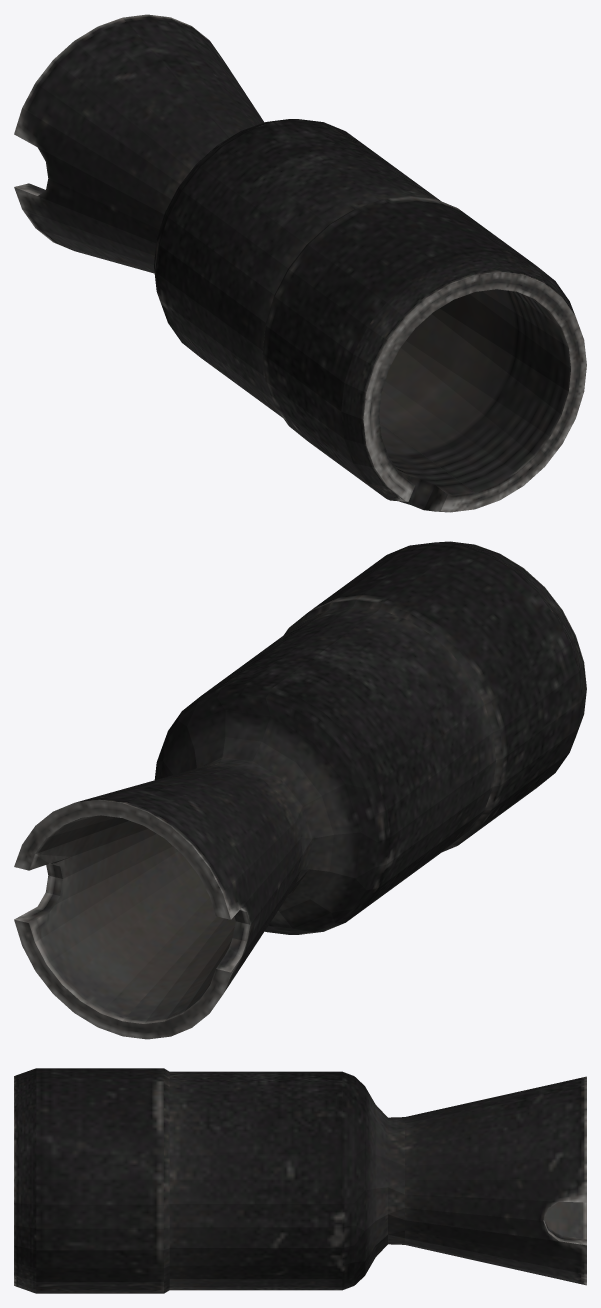
The picture shows the model from 3 angles, top to bottom: view 1: azimuth 30°, elevation 25°; view 2: azimuth 150°, elevation 25°; view 3: azimuth 270°, elevation 25°; orthographic projection. The views are drawn at different scales.
Visible parts, largest first — view 1: TW_5ac72e945acfc43f3b691116_PZ_Import; view 2: TW_5ac72e945acfc43f3b691116_PZ_Import; view 3: TW_5ac72e945acfc43f3b691116_PZ_Import.
Boxes of the visible parts, box(x1,y1,x2,y2) form: TW_5ac72e945acfc43f3b691116_PZ_Import: box(14, 14, 586, 512); TW_5ac72e945acfc43f3b691116_PZ_Import: box(14, 541, 586, 1039); TW_5ac72e945acfc43f3b691116_PZ_Import: box(14, 1068, 586, 1293).
Size of the model in its own units: 0.0162 by 0.0412 by 0.0162.
1 material, 1 textured.
